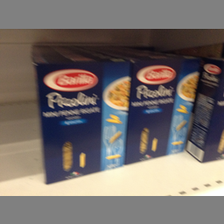pasta: (34, 57, 132, 184), (123, 55, 202, 164)
